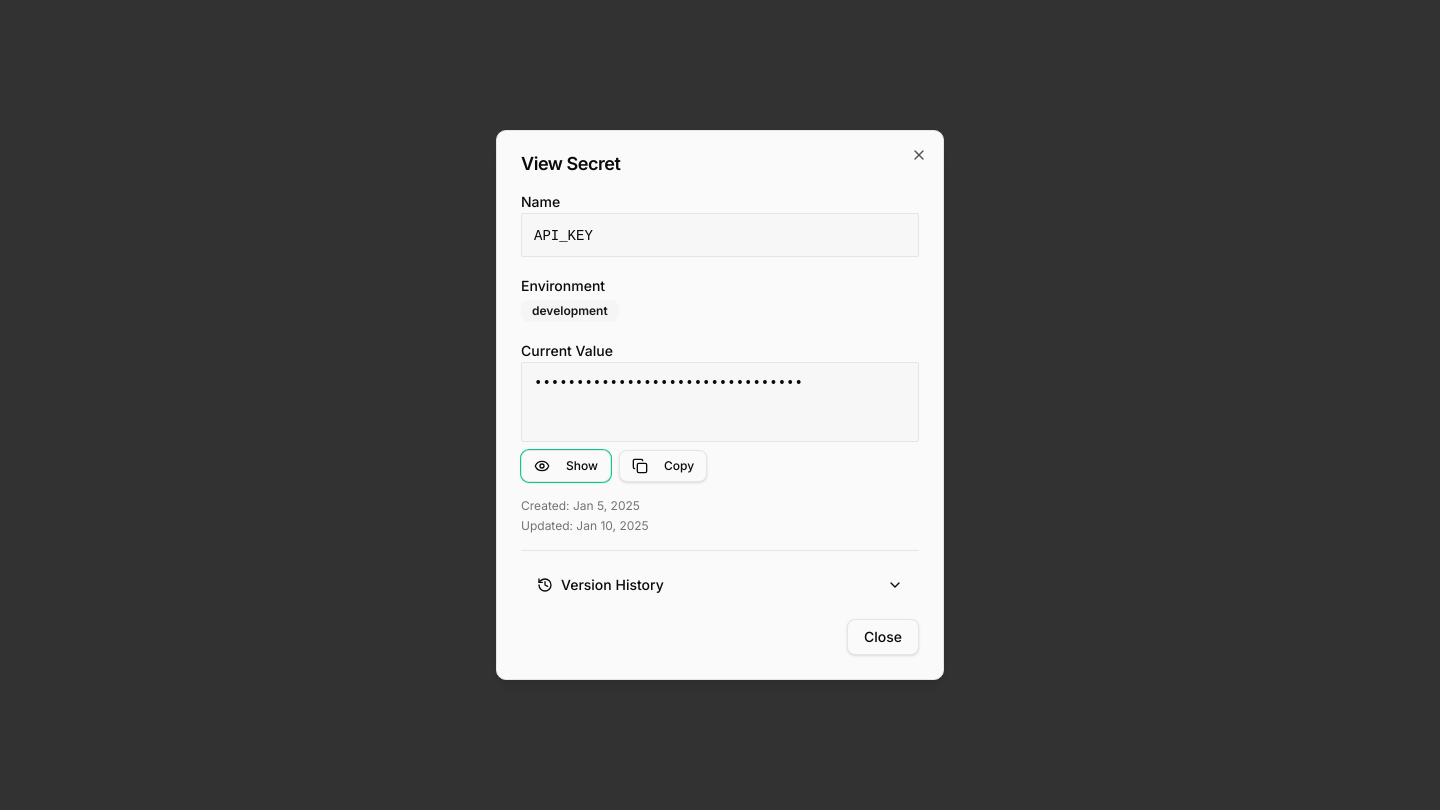
it: ViewSecretModal › reveal functionality › should toggle visibility without re-fetch when clicking Hide
What coordinates should you click on to do the following:
click the button "Show"
I would click on:
 (566, 466)
Its box is [521,450,611,482].
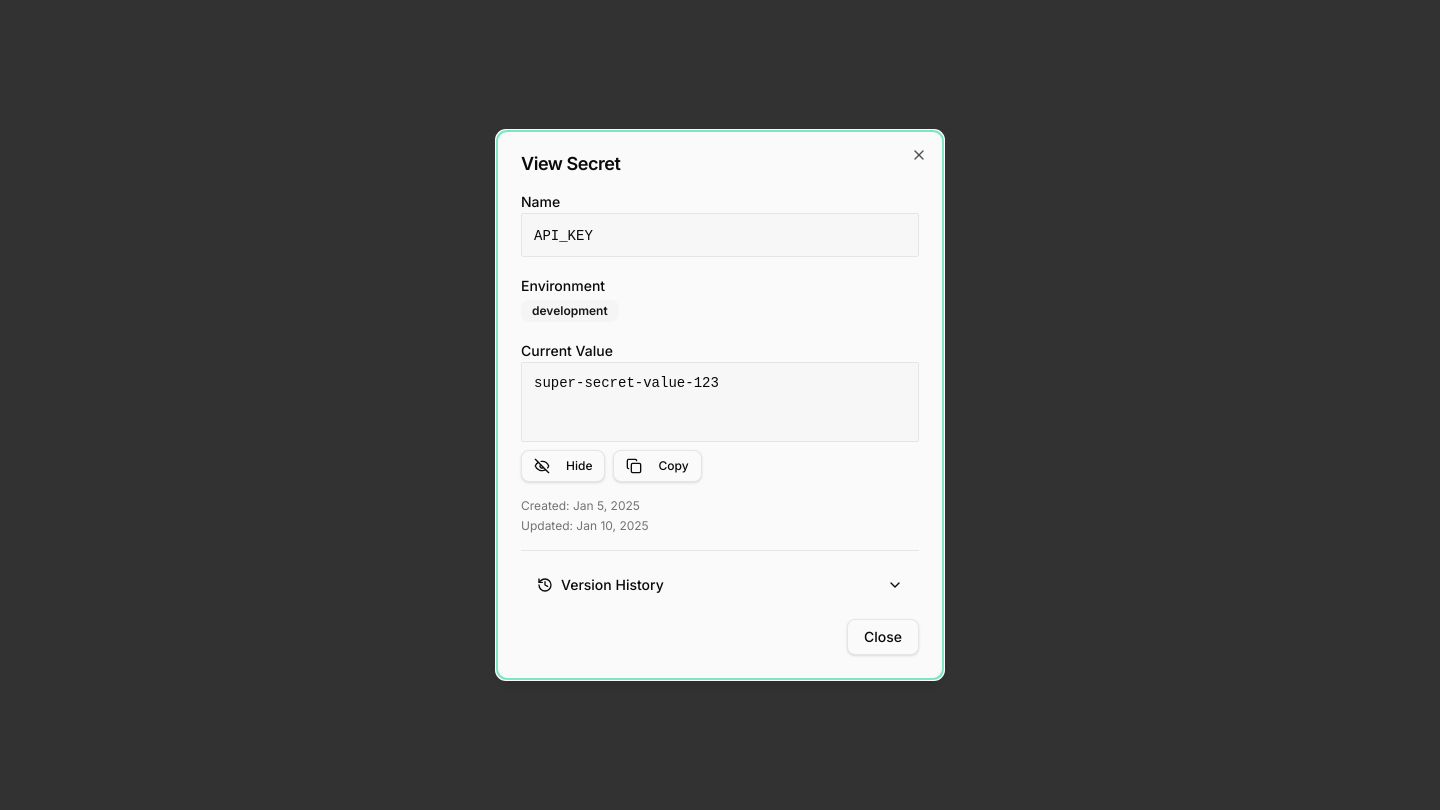
Now the text "super-secret-value-123" is shown, box [534,375,719,391]
What coordinates should you click on to do the following:
click the button "Hide"
I would click on:
 (563, 466)
Its box is [521,450,605,482].
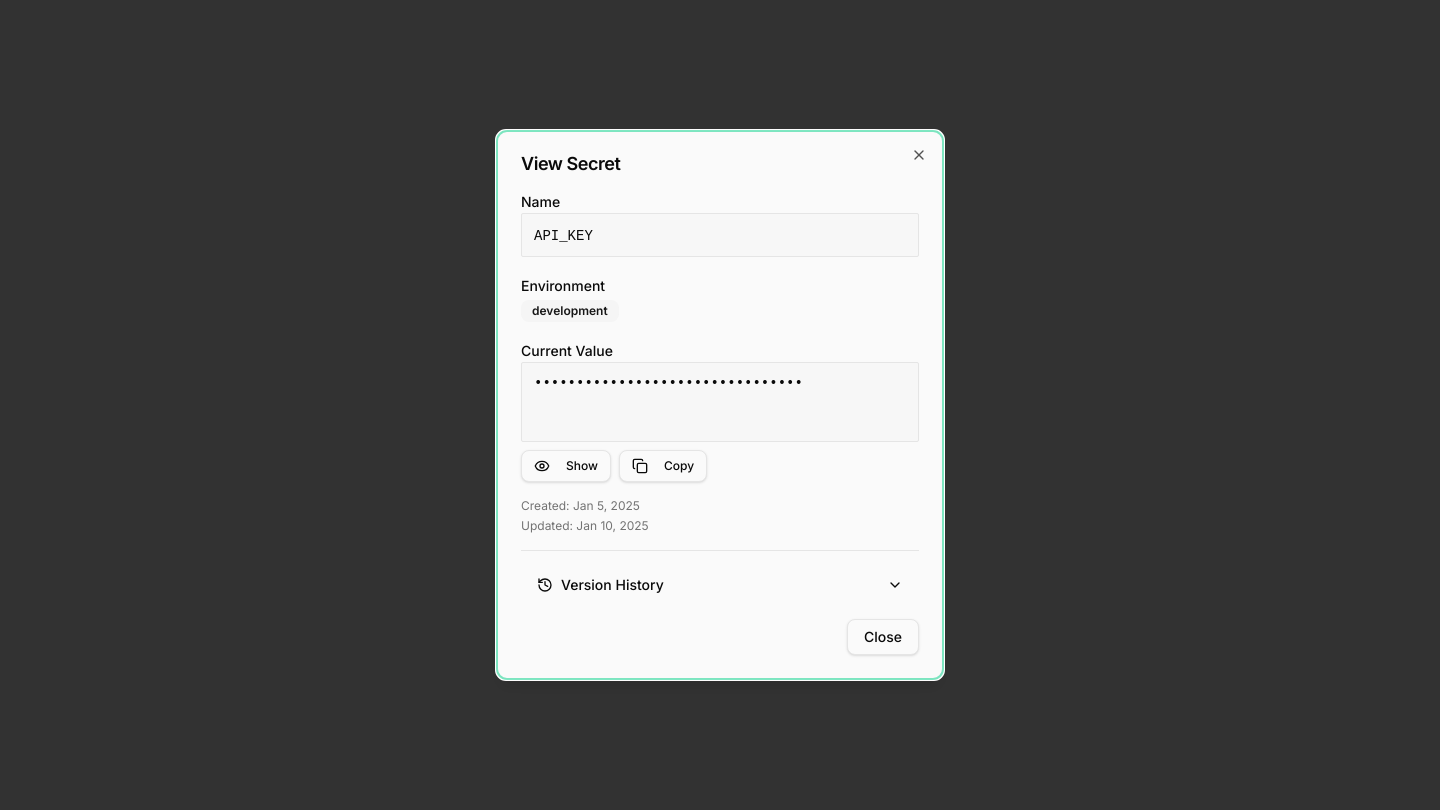
Now the text "••••••••••••••••••••••••••••••••" is shown, box [534,375,803,391]
